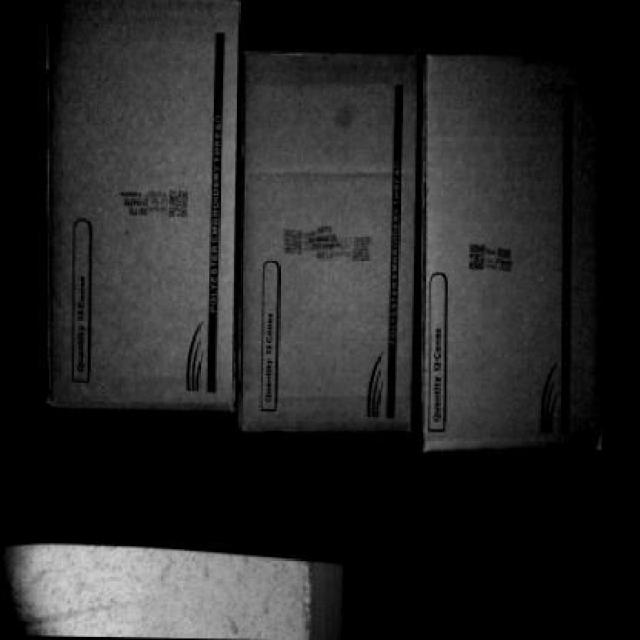cardboxes: (42, 2, 242, 409), (423, 51, 614, 449), (243, 46, 419, 429)
